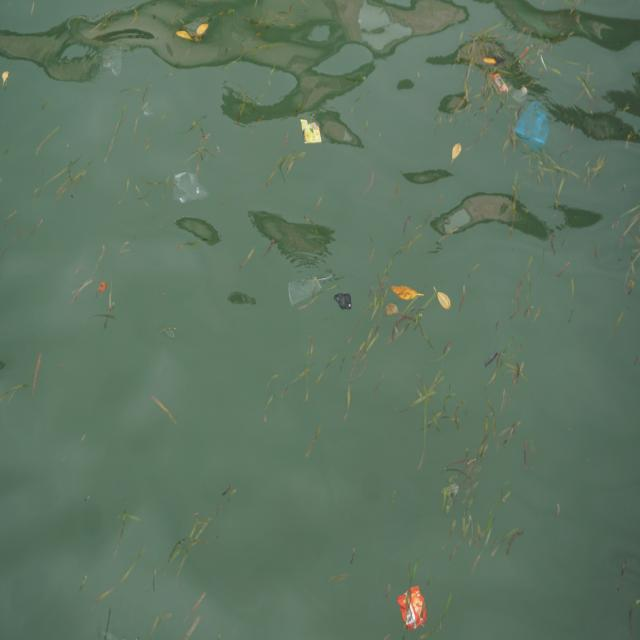Bungkus Makanan: (396, 580, 430, 635), (299, 115, 324, 151), (492, 72, 509, 97)
Kantong Plastik: (514, 99, 552, 150), (171, 165, 211, 213), (287, 265, 326, 313), (333, 290, 356, 314)
